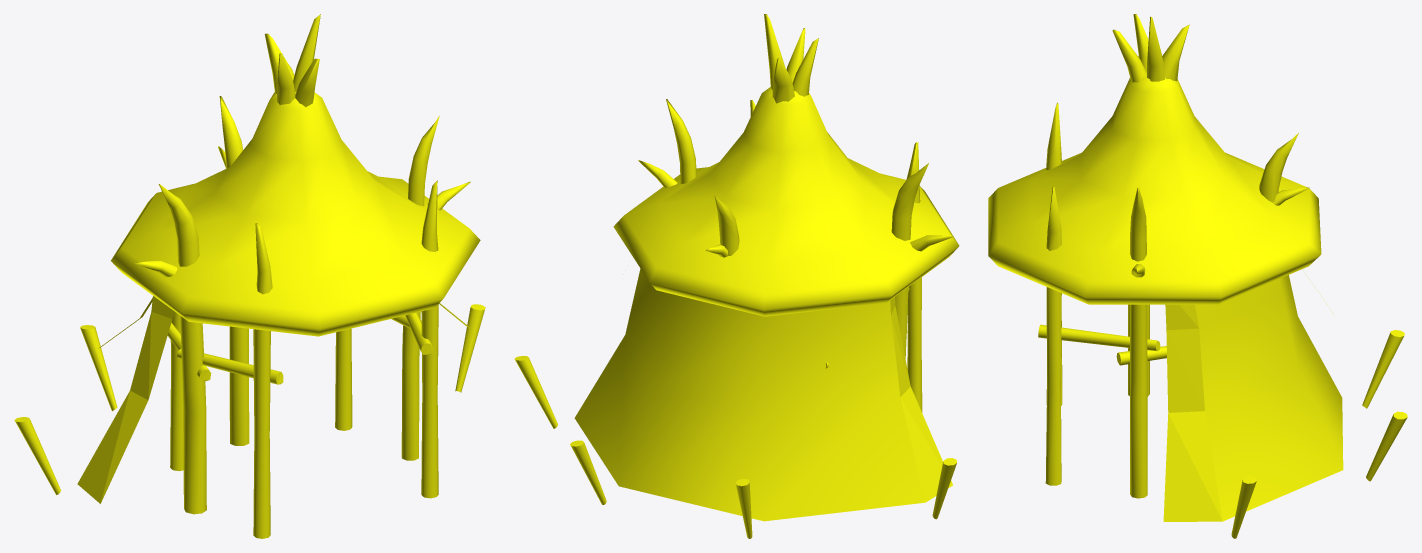
The model's file is camp_redthief_build_01.glb.
The picture shows the model from 3 angles, left to right: view 1: azimuth 30°, elevation 25°; view 2: azimuth 150°, elevation 25°; view 3: azimuth 270°, elevation 25°; orthographic projection. The views are drawn at different scales.
Parts seen in each view (by area): view 1: camp_redthief_build_01; view 2: camp_redthief_build_01; view 3: camp_redthief_build_01.
Boxes of the visible parts, <box> form: camp_redthief_build_01: <box>14,14,485,538</box>; camp_redthief_build_01: <box>514,14,959,538</box>; camp_redthief_build_01: <box>988,14,1407,538</box>.
Size of the model in its own units: 12.12 by 11.43 by 9.78.
Materials: 2 (2 with a texture image).
